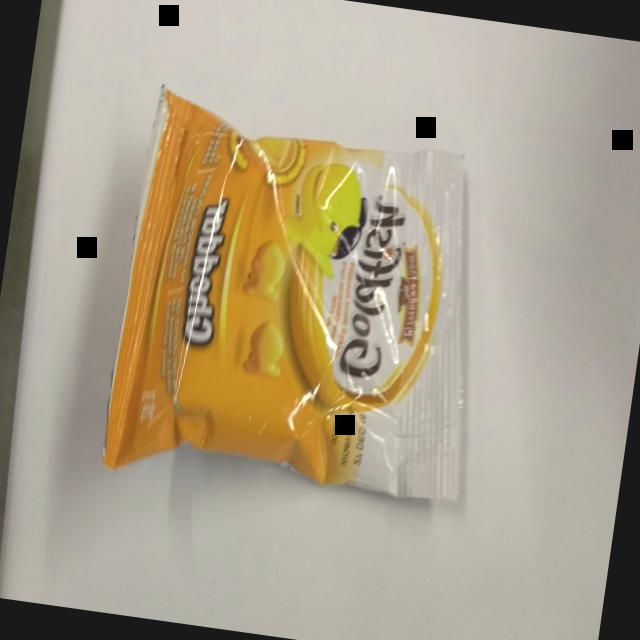crackers: (87, 71, 519, 531)
